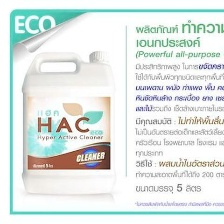cleaning_solution: (18, 47, 120, 199)
